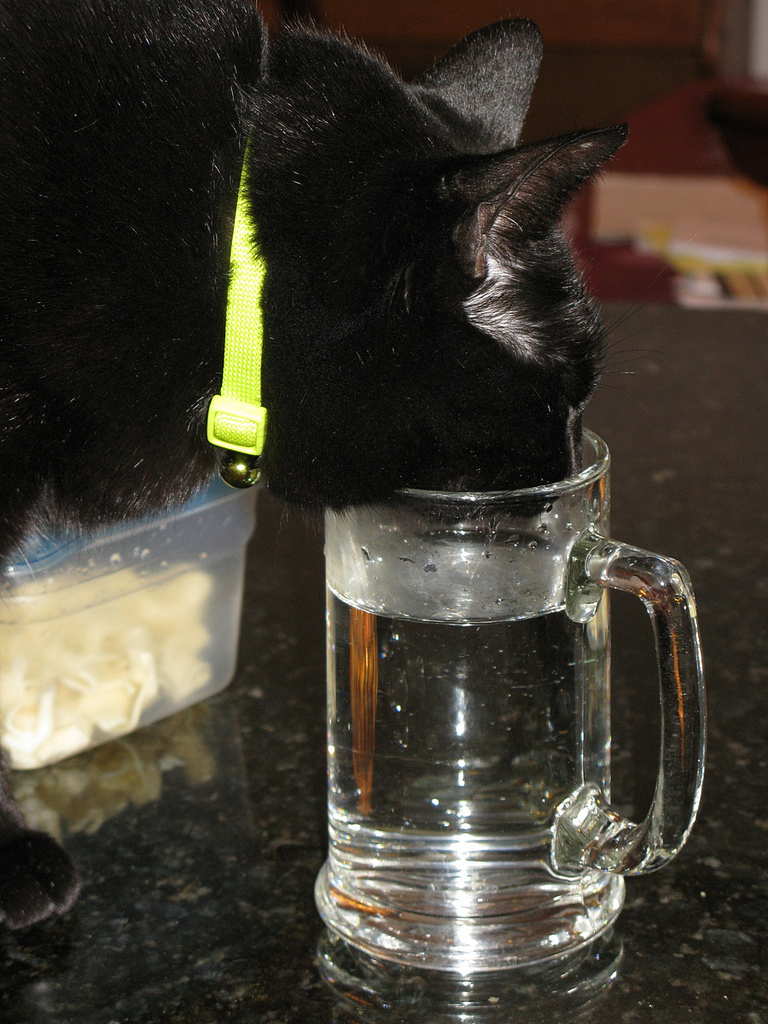glass of water: (323, 511, 617, 956)
